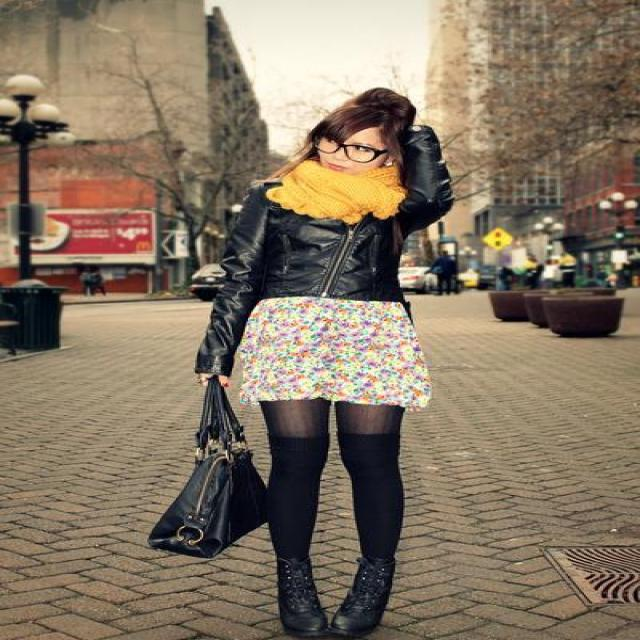bag: (149, 380, 275, 558)
jacket: (187, 173, 464, 376)
shoe: (262, 556, 405, 639)
skirt: (237, 296, 429, 422)
